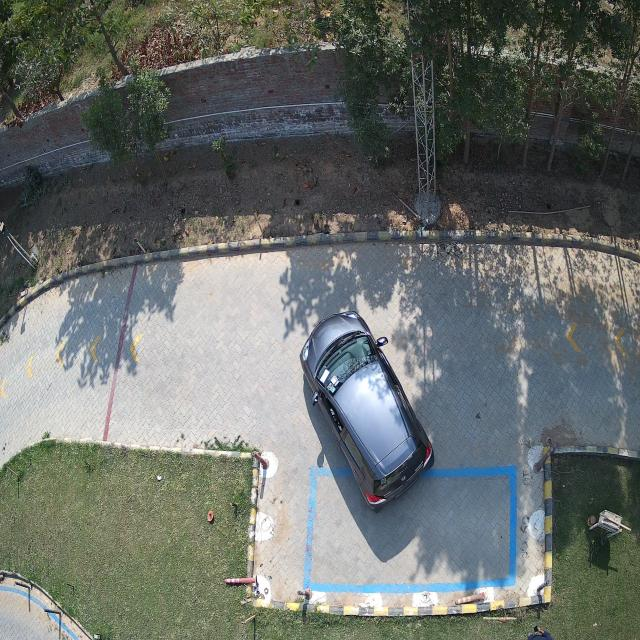car: (300, 312, 434, 512)
